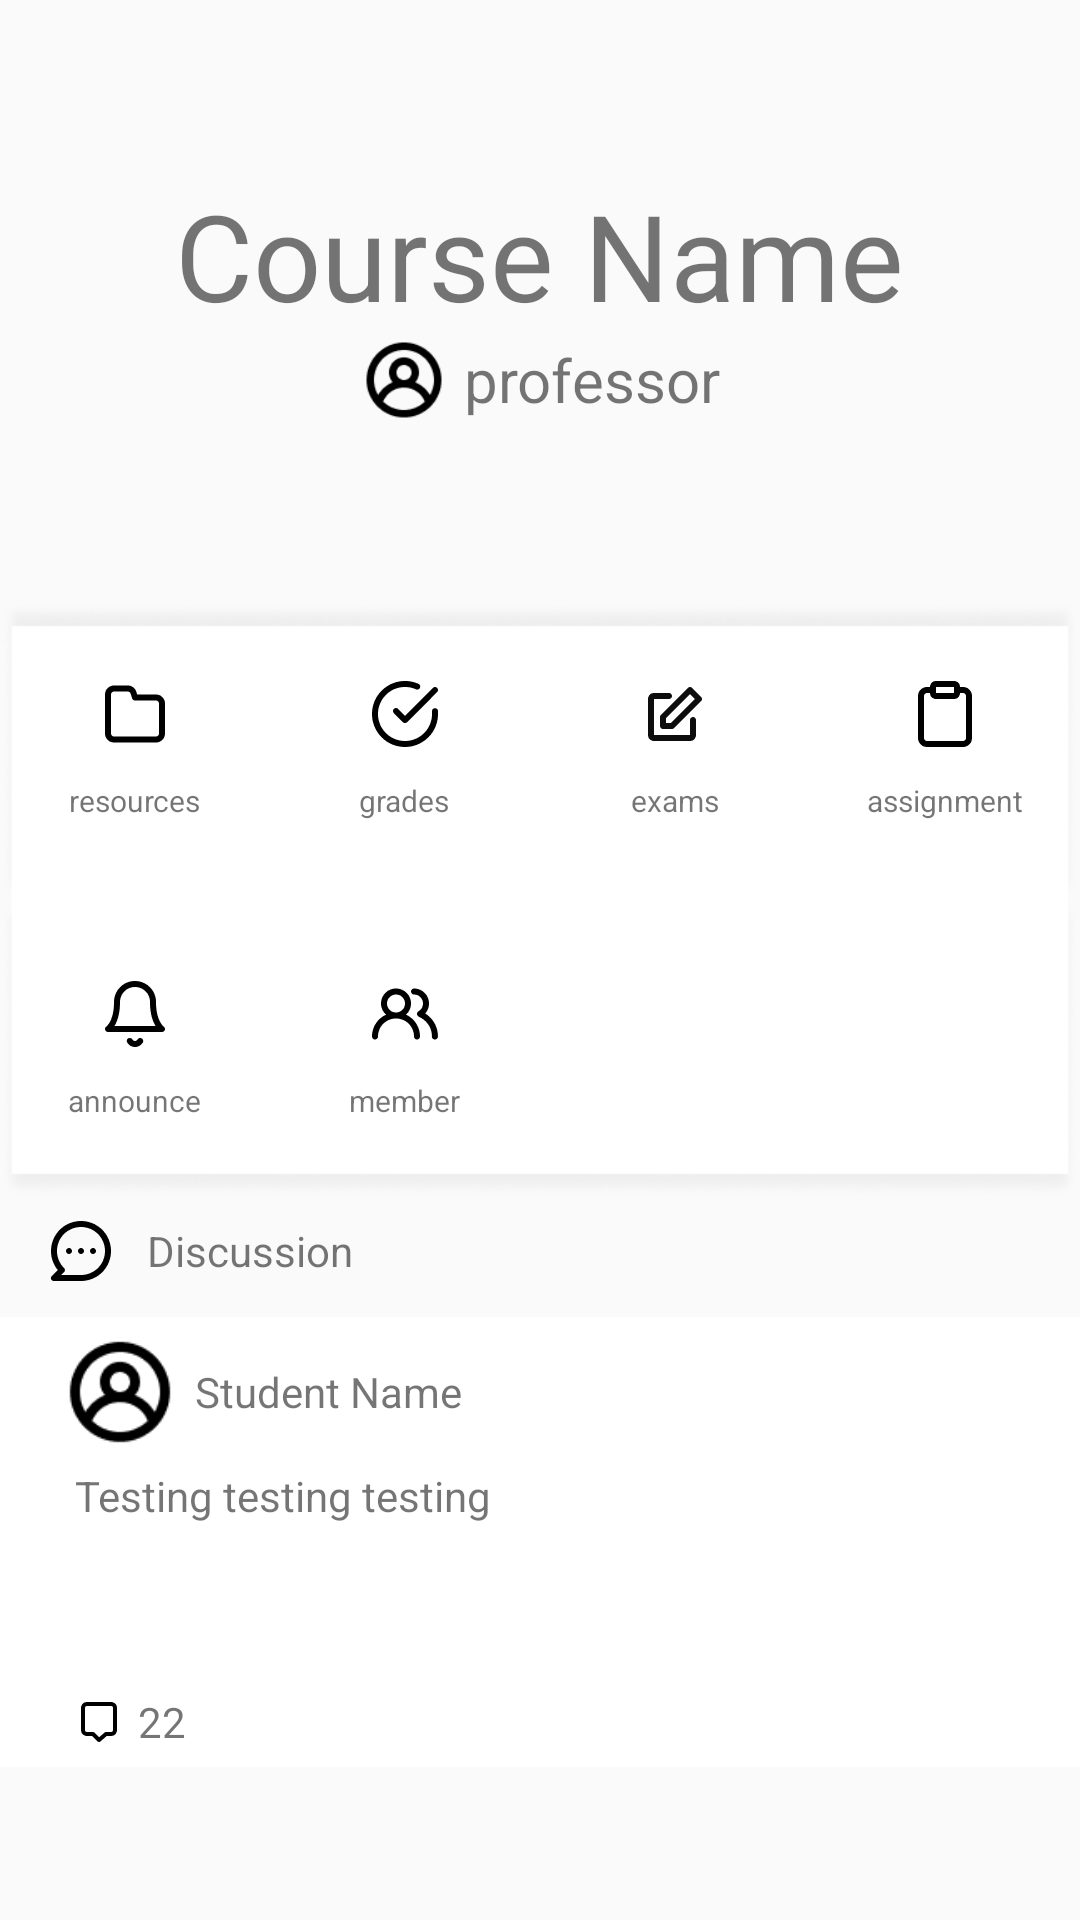

Icon bounding boxes for this 1080x1920 phone screenshot, format (left=x1, top=y1, right=x2, bottom=y2):
chat: (left=81, top=1702, right=117, bottom=1742)
user circle: (left=366, top=342, right=442, bottom=418), (left=69, top=1341, right=171, bottom=1443)
